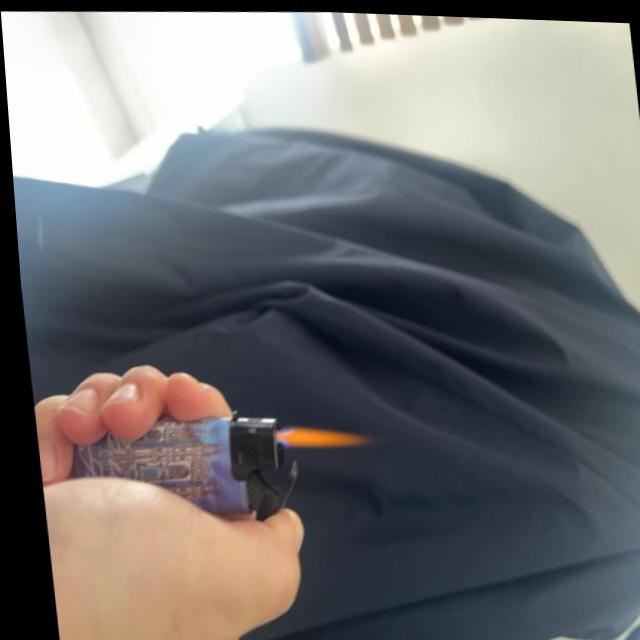Fire: (271, 420, 364, 453)
